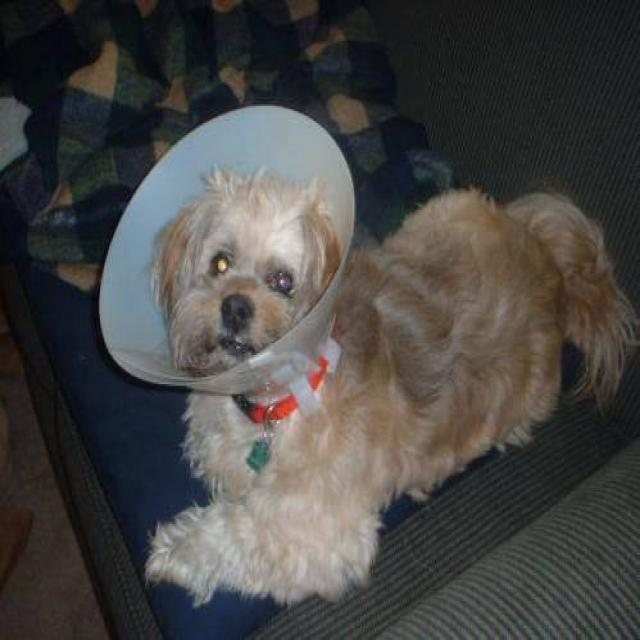dog: (100, 105, 640, 607)
